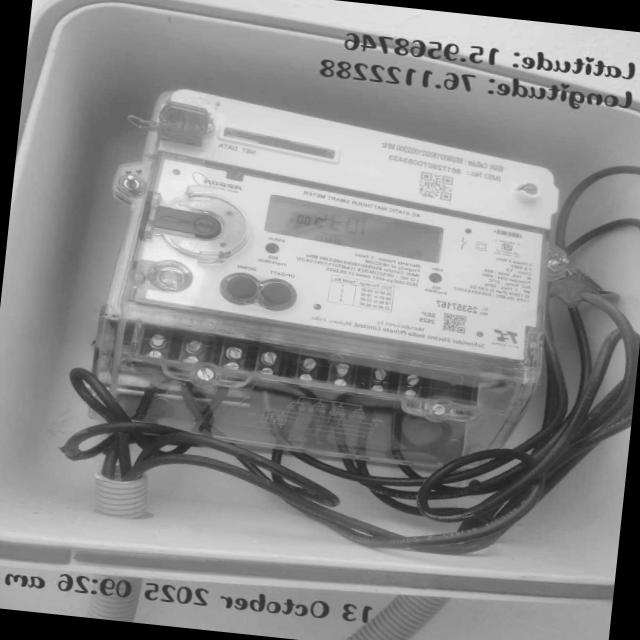meter: (114, 85, 564, 362)
